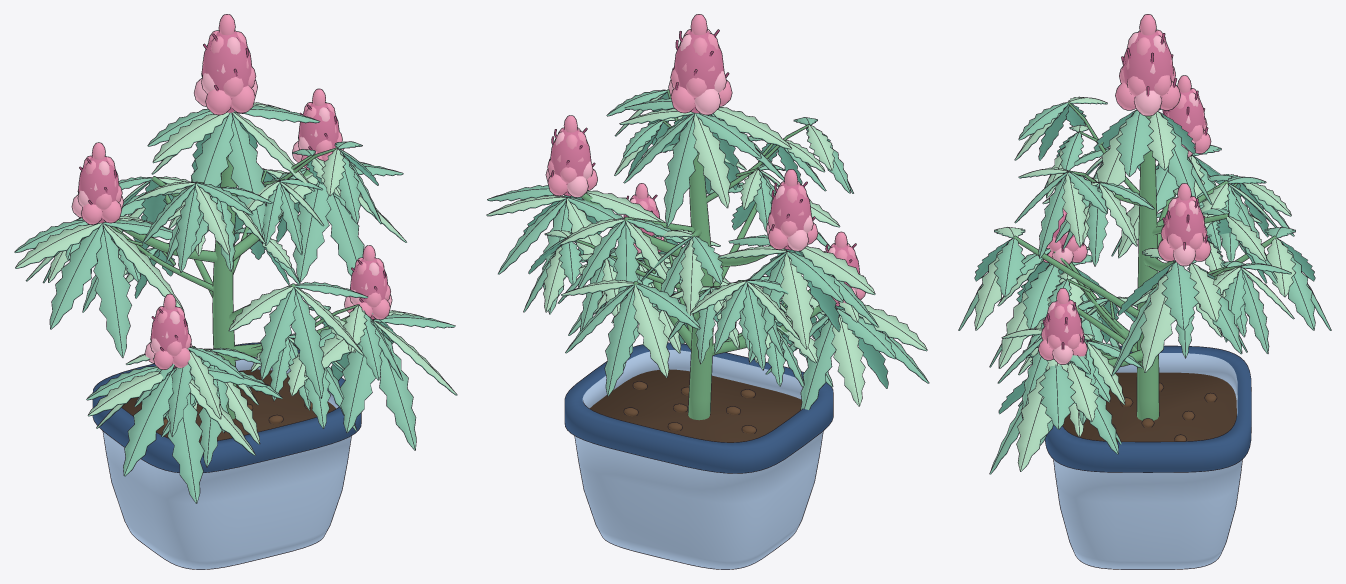
The model's file is cannabis_menthe_rose_toon.glb.
3 renders of one model, left to right at view 1: azimuth 30°, elevation 25°; view 2: azimuth 150°, elevation 25°; view 3: azimuth 270°, elevation 25°, orthographic.
Visible parts, largest first — view 1: cannabis_menthe_rose_Geometry; view 2: cannabis_menthe_rose_Geometry; view 3: cannabis_menthe_rose_Geometry.
Part boxes in pixels (x1,y1,x2,y2): cannabis_menthe_rose_Geometry: (14, 14, 457, 569); cannabis_menthe_rose_Geometry: (486, 14, 929, 569); cannabis_menthe_rose_Geometry: (958, 14, 1331, 569).
Size of the model in its own units: 0.7412 by 0.9416 by 0.6151.
